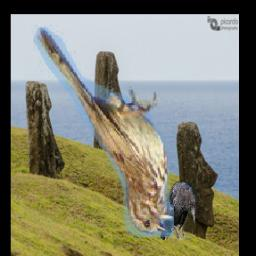Crow: (160, 181, 195, 240)
Sparrow: (31, 26, 174, 238)
